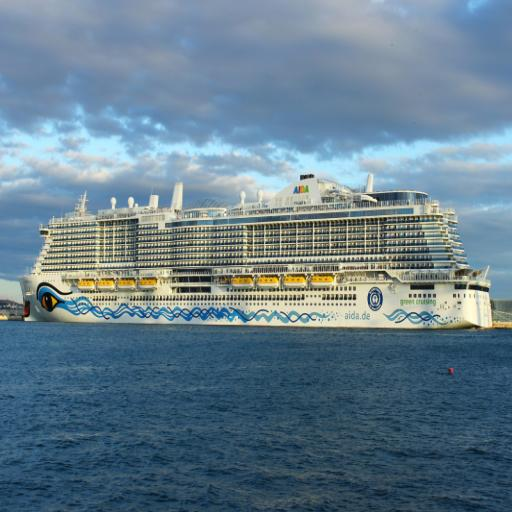cruises: (21, 167, 493, 336)
